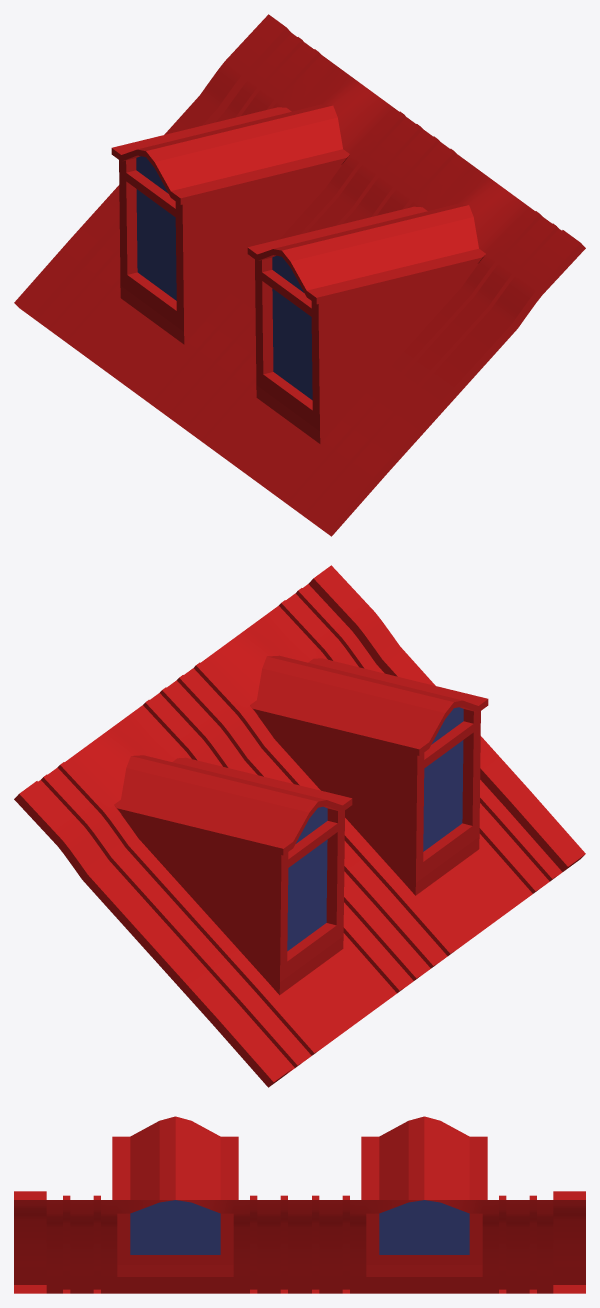
The model's file is RoofTwoWindow.fbx.
3 views of the same model, one above another, from view 1: azimuth 30°, elevation 25°; view 2: azimuth 150°, elevation 25°; view 3: azimuth 270°, elevation 25° (orthographic). The views are drawn at different scales.
Visible parts, largest first — view 1: Plane007; view 2: Plane007; view 3: Plane007.
Boxes of the visible parts, box(x1,y1,x2,y2) form: Plane007: box(14, 14, 585, 536); Plane007: box(14, 565, 585, 1087); Plane007: box(14, 1116, 585, 1293).
Size of the model in its own units: 2.4 by 2.06 by 5.
